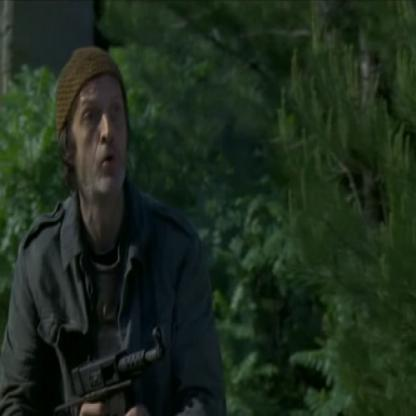Gun: (67, 323, 168, 415)
